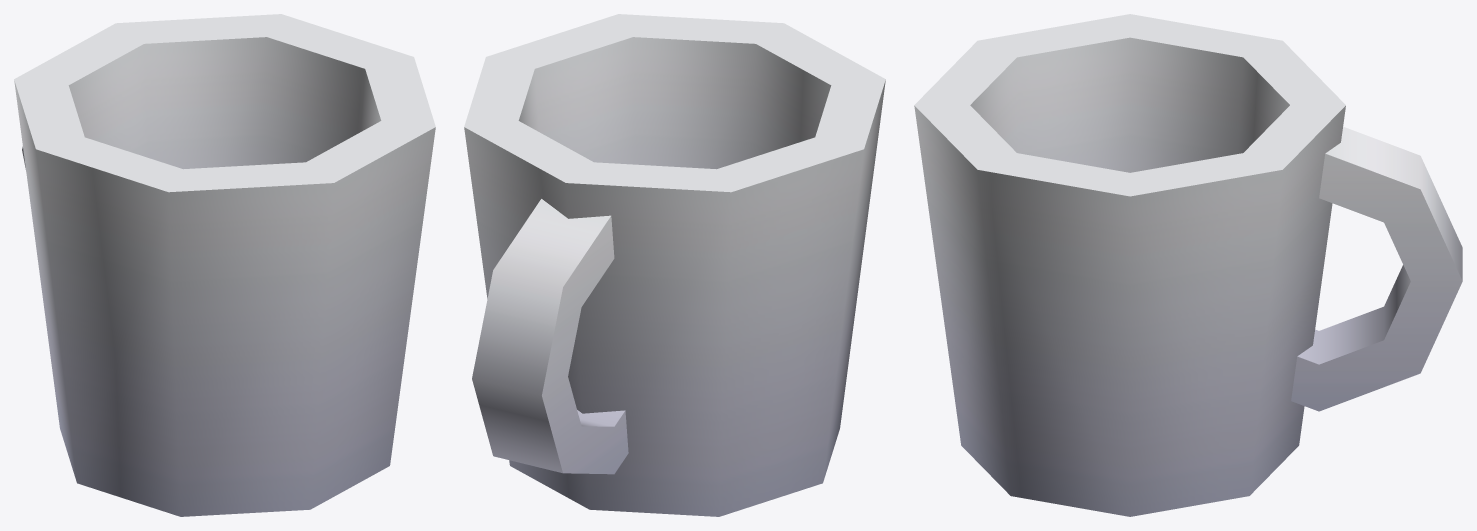
File: kenney-food-cup.glb
3 renders of one model, left to right at view 1: azimuth 30°, elevation 25°; view 2: azimuth 150°, elevation 25°; view 3: azimuth 270°, elevation 25°, orthographic.
Visible parts, largest first — view 1: cup; view 2: cup; view 3: cup.
Part boxes in pixels (left/top/right/bottom): cup: left=14, top=14, right=435, bottom=516; cup: left=464, top=14, right=885, bottom=516; cup: left=914, top=14, right=1462, bottom=516.
Bounding box in the file's own units: 0.23 × 0.2 × 0.2921.
1 material, 1 textured.
